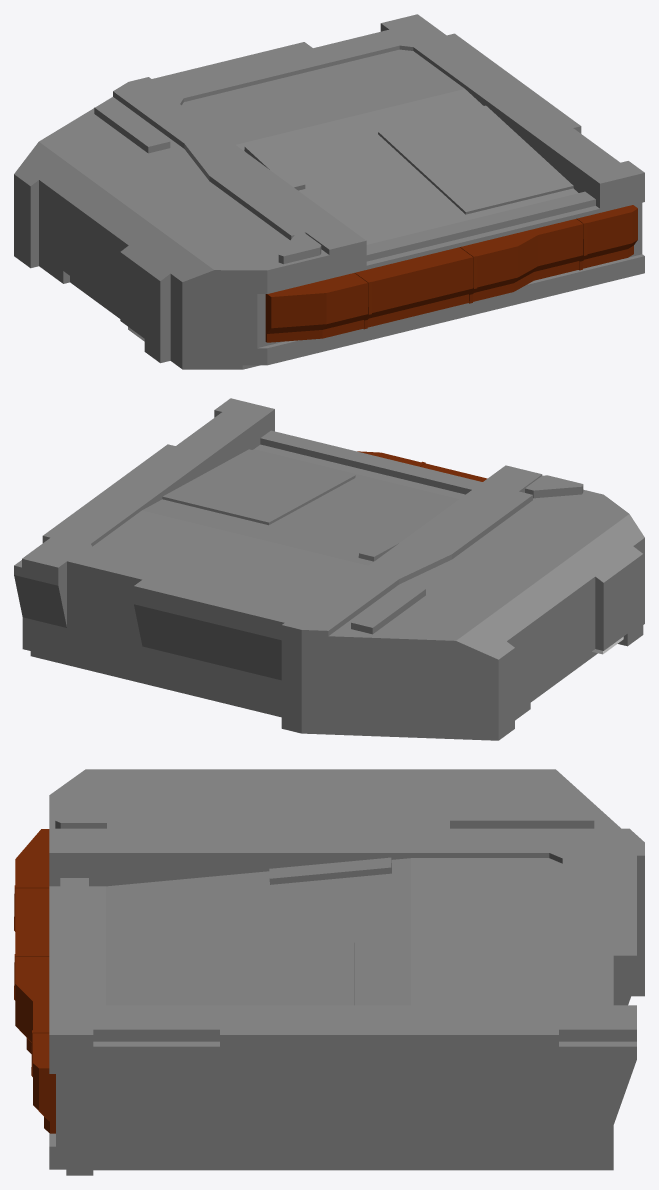
The model's file is Building_C_Top.fbx.
3 renders of one model, top to bottom at view 1: azimuth 30°, elevation 25°; view 2: azimuth 150°, elevation 25°; view 3: azimuth 270°, elevation 25°, orthographic. The views are drawn at different scales.
Parts seen in each view (by area): view 1: U_Building_C_Top, Glass_Red; view 2: U_Building_C_Top, Glass_Red; view 3: U_Building_C_Top, Glass_Red.
Boxes of the visible parts, left/top/right/bottom form: U_Building_C_Top: left=14, top=14, right=644, bottom=369; Glass_Red: left=265, top=205, right=637, bottom=342; U_Building_C_Top: left=14, top=398, right=644, bottom=740; Glass_Red: left=357, top=451, right=487, bottom=481; U_Building_C_Top: left=49, top=769, right=644, bottom=1175; Glass_Red: left=14, top=829, right=55, bottom=1133.
Bounding box in the file's own units: 10575 × 2405 × 9560.
